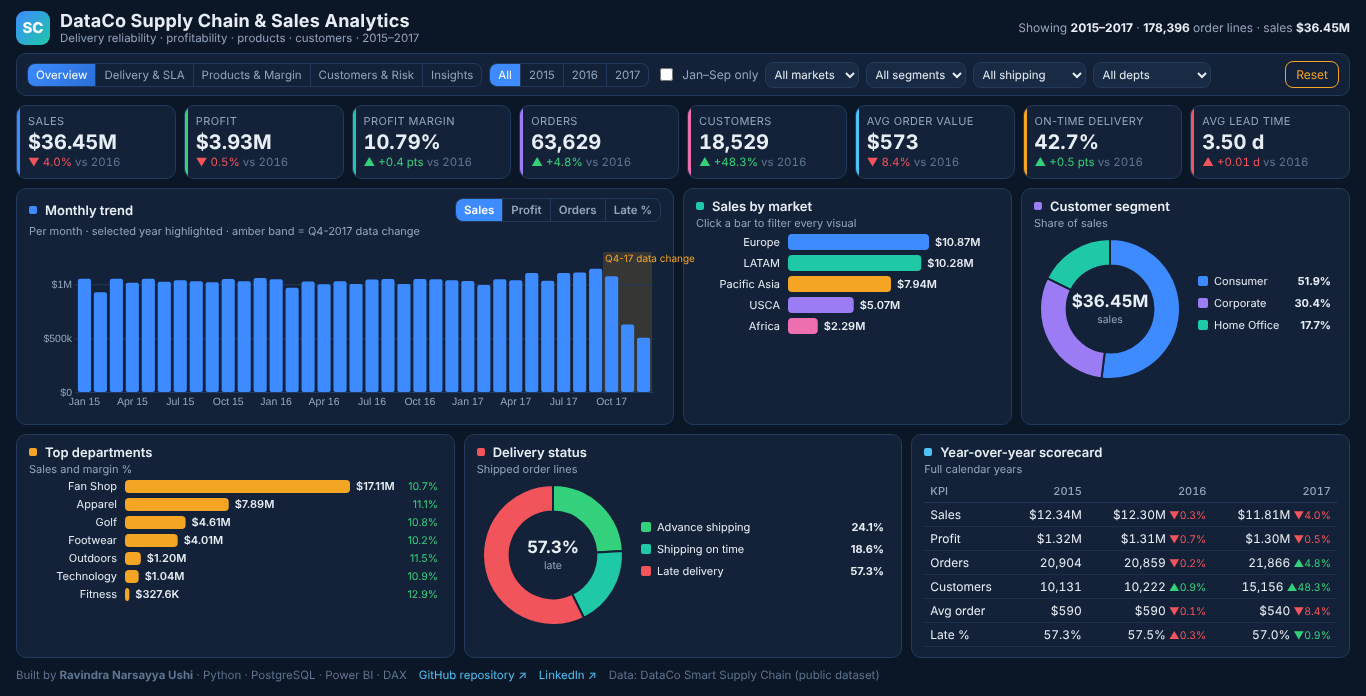

The dashboard page shown, as its layout file describes it:
{"tool":"powerbi","page":{"name":"Overview","canvas":[1920,1080],"ordinal":0},"visuals":[{"type":"textbox","box":[488,0,940.8,83.2],"z":0},{"type":"group","id":"g1","title":"Group 10","box":[0,88.7,179.2,980],"z":0,"group":"g10"},{"type":"slicer","fields":{"Values":["DateTable.Date"]},"box":[1601.7,93.4,292,100],"z":0},{"type":"cardVisual","fields":{"Data":["Sum(public dataco_raw.Order Profit Per Order)"]},"box":[391.7,100,193,85],"z":0,"group":"g2"},{"type":"cardVisual","fields":{"Data":["Count(public dataco_raw.Order Id)"]},"box":[595,100,193,85],"z":0,"group":"g4"},{"type":"cardVisual","fields":{"Data":["Count(public dataco_raw.Customer Id)"]},"box":[798,100,193,85],"z":0,"group":"g5"},{"type":"cardVisual","fields":{"Data":["public dataco_raw.AOV"]},"box":[1000,100,193,85],"z":0,"group":"g6"},{"type":"cardVisual","fields":{"Data":["public dataco_raw.Late Delivery %"]},"box":[1403.3,100,193,85.7],"z":0,"group":"g8"},{"type":"cardVisual","fields":{"Data":["public dataco_raw.Profit Margin"]},"box":[1203.3,101.7,193,85.7],"z":0,"group":"g7"},{"type":"shape","box":[0,88.7,178.7,980],"z":500,"group":"g1"},{"type":"textbox","box":[535.5,42.7,849.1,40.5],"z":1000},{"type":"group","id":"g2","title":"Group 1","box":[391.7,100,193,85],"z":1000},{"type":"image","box":[6.4,275.2,50,40],"z":1000,"group":"g10"},{"type":"cardVisual","fields":{"Data":["Sum(public dataco_raw.Sales)"]},"box":[185,100,193,85],"z":2000,"group":"g3"},{"type":"group","id":"g3","title":"Group 2","box":[185,100,193,85],"z":2000},{"type":"image","box":[4.3,192,40,50],"z":2000,"group":"g10"},{"type":"lineChart","title":"1. Sales Trend","fields":{"Category":["public dataco_raw.order date (DateOrders).Variation.Date Hierarchy.Year","public dataco_raw.order date (DateOrders).Variation.Date Hierarchy.Month"],"Y":["Sum(public dataco_raw.Sales)"]},"box":[185,193.3,482.9,205.7],"z":2000},{"type":"group","id":"g4","title":"Group 3","box":[595,100,193,85],"z":3000},{"type":"image","box":[6.4,358.4,40,50],"z":3000,"group":"g10"},{"type":"clusteredColumnChart","title":"5. Sales by Customer Segment","fields":{"Category":["public dataco_raw.Customer Segment"],"Y":["Sum(public dataco_raw.Sales)"]},"box":[185,408.3,482.9,188.6],"z":3000},{"type":"group","id":"g5","title":"Group 4","box":[798,100,193,85],"z":4000},{"type":"clusteredColumnChart","title":"6. Profit by Customer Segment","fields":{"Category":["public dataco_raw.Customer Segment"],"Y":["Sum(public dataco_raw.Order Profit Per Order)"]},"box":[668.6,408.6,465.7,188.6],"z":4000},{"type":"image","box":[6.4,439.5,40,50],"z":4000,"group":"g10"},{"type":"group","id":"g6","title":"Group 5","box":[1000,100,193,85],"z":5000},{"type":"clusteredColumnChart","title":"2. Market wise Sales & Profits","fields":{"Category":["public dataco_raw.Market"],"Y":["Sum(public dataco_raw.Sales)","Sum(public dataco_raw.Order Profit Per Order)"]},"box":[668.3,193.3,465.7,205.7],"z":5000},{"type":"image","box":[10.7,514.2,40,50],"z":5000,"group":"g10"},{"type":"group","id":"g7","title":"Group 6","box":[1203.3,101.7,193,85.7],"z":6000},{"type":"clusteredBarChart","title":"8. Late Delivery % by Shipping Mode","fields":{"Category":["public dataco_raw.Shipping Mode"],"Y":["public dataco_raw.Late Delivery %"]},"box":[1141.7,408.3,360,193.3],"z":6000},{"type":"group","id":"g8","title":"Group 7","box":[1403.3,100,193,85.7],"z":7000},{"type":"clusteredColumnChart","title":"7. Sales & Profit by Shipping Mode","fields":{"Category":["public dataco_raw.Shipping Mode"],"Y":["Sum(public dataco_raw.Sales)","Sum(public dataco_raw.Order Profit Per Order)"]},"box":[1511.4,408.6,398.6,188.6],"z":7000},{"type":"clusteredBarChart","title":"3. Category wise Sales","fields":{"Category":["public dataco_raw.Category Name"],"Y":["Sum(public dataco_raw.Sales)"]},"box":[1136.7,193.3,365,205],"z":8000},{"type":"clusteredColumnChart","title":"9. Actual vs Scheduled Shipping Days","fields":{"Category":["public dataco_raw.Shipping Mode"],"Y":["Avg(public dataco_raw.Days for shipping (real))","Avg(public dataco_raw.Days for shipment (scheduled))"]},"box":[185.7,607.1,482.9,214.3],"z":9000},{"type":"clusteredBarChart","title":"10. Order Status Analysis","fields":{"Category":["public dataco_raw.Order Status"],"Y":["Sum(public dataco_raw.Sales)"]},"box":[670,608,465,213.3],"z":10000},{"type":"clusteredBarChart","title":"4.Category wise Profit Margin","fields":{"Category":["public dataco_raw.Category Name"],"Y":["public dataco_raw.Profit Margin"]},"box":[1511.4,192.9,398.6,205.7],"z":11000},{"type":"clusteredBarChart","title":"11. Top 10 Customers by Sales","fields":{"Category":["public dataco_raw.Customer Id"],"Y":["Sum(public dataco_raw.Sales)"]},"box":[1140,606.7,360,213.3],"z":12000},{"type":"donutChart","title":"16. Loss-Making Customer Profit Impact","fields":{"Category":["public dataco_raw.Customer Segment"],"Y":["public dataco_raw.Loss-Making Customer Profit"]},"box":[1511.4,831.4,400,237.1],"z":13000},{"type":"clusteredBarChart","title":"13. Top 10 Products by Profit","fields":{"Category":["public dataco_raw.Product Name"],"Y":["Sum(public dataco_raw.Order Profit Per Order)"]},"box":[668.3,831.7,396.7,236.7],"z":14000},{"type":"clusteredBarChart","title":"12. Top 10 Products by Sales","fields":{"Category":["public dataco_raw.Product Name"],"Y":["Sum(public dataco_raw.Sales)"]},"box":[1511.4,607.1,400,214.3],"z":15000},{"type":"textbox","box":[0,194.1,166.4,494.9],"z":16000},{"type":"pivotTable","title":"14. Customer Segment * Market(Sales)","fields":{"Columns":["public dataco_raw.Market"],"Rows":["public dataco_raw.Customer Segment"],"Values":["Sum(public dataco_raw.Sales)"]},"box":[185,831.7,484,236],"z":17000},{"type":"pivotTable","title":"15. Category * Customer Segment(Sales)","fields":{"Columns":["public dataco_raw.Customer Segment"],"Rows":["public dataco_raw.Category Name"],"Values":["Sum(public dataco_raw.Sales)"]},"box":[1068.6,831.4,432.9,235.7],"z":18000},{"type":"image","box":[0,0,265,93.3],"z":19000},{"type":"image","box":[1578.7,0,341.3,93.9],"z":20000},{"type":"cardVisual","fields":{"Data":["public dataco_raw.Profit Margin"]},"box":[1920,114.3,192.9,85.7],"z":21000},{"type":"pageNavigator","box":[0,176.9,179.2,475.7],"z":22000,"group":"g1"},{"type":"group","id":"g9","title":"Group 9","box":[10,218.3,50,381.7],"z":23000},{"type":"image","box":[10,311.6,50,40],"z":23000,"group":"g9"},{"type":"group","id":"g10","title":"Group 11","box":[0,88.7,179.2,980],"z":24000},{"type":"image","box":[15,218.3,40,50],"z":24000,"group":"g9"},{"type":"image","box":[15,391.6,40,50],"z":25000,"group":"g9"},{"type":"image","box":[14.9,462.9,40,50],"z":26000,"group":"g9"},{"type":"image","box":[15,550,40,50],"z":27000,"group":"g9"},{"type":"image","box":[1006.7,121.7,33.8,46.2],"z":30000,"group":"g6"},{"type":"image","box":[805,126.7,38.3,43.3],"z":30000,"group":"g5"},{"type":"image","box":[1215,128.4,44.3,41.4],"z":30000,"group":"g7"},{"type":"image","box":[595,130,45,35],"z":30000,"group":"g4"},{"type":"image","box":[201.7,123.3,37,43],"z":31000,"group":"g3"},{"type":"image","box":[1405,126.7,45,41.7],"z":31000,"group":"g8"},{"type":"image","box":[396.7,128.3,30,36],"z":32000,"group":"g2"}]}

Visuals, with their boxes on the page's 1920x1080 design canvas (x1, y1, x2, y2). These are canvas units, not pixel positions in the 1366x696 screenshot, which may show the page scaled, cropped or inside an application window:
textbox: rect(488, 0, 1429, 83)
"Group 10" group: rect(0, 89, 179, 1069)
slicer - DateTable.Date: rect(1602, 93, 1894, 193)
cardVisual - Sum(public dataco_raw.Order Profit Per Order): rect(392, 100, 585, 185)
cardVisual - Count(public dataco_raw.Order Id): rect(595, 100, 788, 185)
cardVisual - Count(public dataco_raw.Customer Id): rect(798, 100, 991, 185)
cardVisual - public dataco_raw.AOV: rect(1000, 100, 1193, 185)
cardVisual - public dataco_raw.Late Delivery %: rect(1403, 100, 1596, 186)
cardVisual - public dataco_raw.Profit Margin: rect(1203, 102, 1396, 187)
shape: rect(0, 89, 179, 1069)
textbox: rect(536, 43, 1385, 83)
"Group 1" group: rect(392, 100, 585, 185)
image: rect(6, 275, 56, 315)
cardVisual - Sum(public dataco_raw.Sales): rect(185, 100, 378, 185)
"Group 2" group: rect(185, 100, 378, 185)
image: rect(4, 192, 44, 242)
"1. Sales Trend" lineChart: rect(185, 193, 668, 399)
"Group 3" group: rect(595, 100, 788, 185)
image: rect(6, 358, 46, 408)
"5. Sales by Customer Segment" clusteredColumnChart: rect(185, 408, 668, 597)
"Group 4" group: rect(798, 100, 991, 185)
"6. Profit by Customer Segment" clusteredColumnChart: rect(669, 409, 1134, 597)
image: rect(6, 440, 46, 490)
"Group 5" group: rect(1000, 100, 1193, 185)
"2. Market wise Sales & Profits" clusteredColumnChart: rect(668, 193, 1134, 399)
image: rect(11, 514, 51, 564)
"Group 6" group: rect(1203, 102, 1396, 187)
"8. Late Delivery % by Shipping Mode" clusteredBarChart: rect(1142, 408, 1502, 602)
"Group 7" group: rect(1403, 100, 1596, 186)
"7. Sales & Profit by Shipping Mode" clusteredColumnChart: rect(1511, 409, 1910, 597)
"3. Category wise Sales" clusteredBarChart: rect(1137, 193, 1502, 398)
"9. Actual vs Scheduled Shipping Days" clusteredColumnChart: rect(186, 607, 669, 821)
"10. Order Status Analysis" clusteredBarChart: rect(670, 608, 1135, 821)
"4.Category wise Profit Margin" clusteredBarChart: rect(1511, 193, 1910, 399)
"11. Top 10 Customers by Sales" clusteredBarChart: rect(1140, 607, 1500, 820)
"16. Loss-Making Customer Profit Impact" donutChart: rect(1511, 831, 1911, 1068)
"13. Top 10 Products by Profit" clusteredBarChart: rect(668, 832, 1065, 1068)
"12. Top 10 Products by Sales" clusteredBarChart: rect(1511, 607, 1911, 821)
textbox: rect(0, 194, 166, 689)
"14. Customer Segment * Market(Sales)" pivotTable: rect(185, 832, 669, 1068)
"15. Category * Customer Segment(Sales)" pivotTable: rect(1069, 831, 1502, 1067)
image: rect(0, 0, 265, 93)
image: rect(1579, 0, 1920, 94)
cardVisual - public dataco_raw.Profit Margin: rect(1920, 114, 2113, 200)
pageNavigator: rect(0, 177, 179, 653)
"Group 9" group: rect(10, 218, 60, 600)
image: rect(10, 312, 60, 352)
"Group 11" group: rect(0, 89, 179, 1069)
image: rect(15, 218, 55, 268)
image: rect(15, 392, 55, 442)
image: rect(15, 463, 55, 513)
image: rect(15, 550, 55, 600)
image: rect(1007, 122, 1040, 168)
image: rect(805, 127, 843, 170)
image: rect(1215, 128, 1259, 170)
image: rect(595, 130, 640, 165)
image: rect(202, 123, 239, 166)
image: rect(1405, 127, 1450, 168)
image: rect(397, 128, 427, 164)
